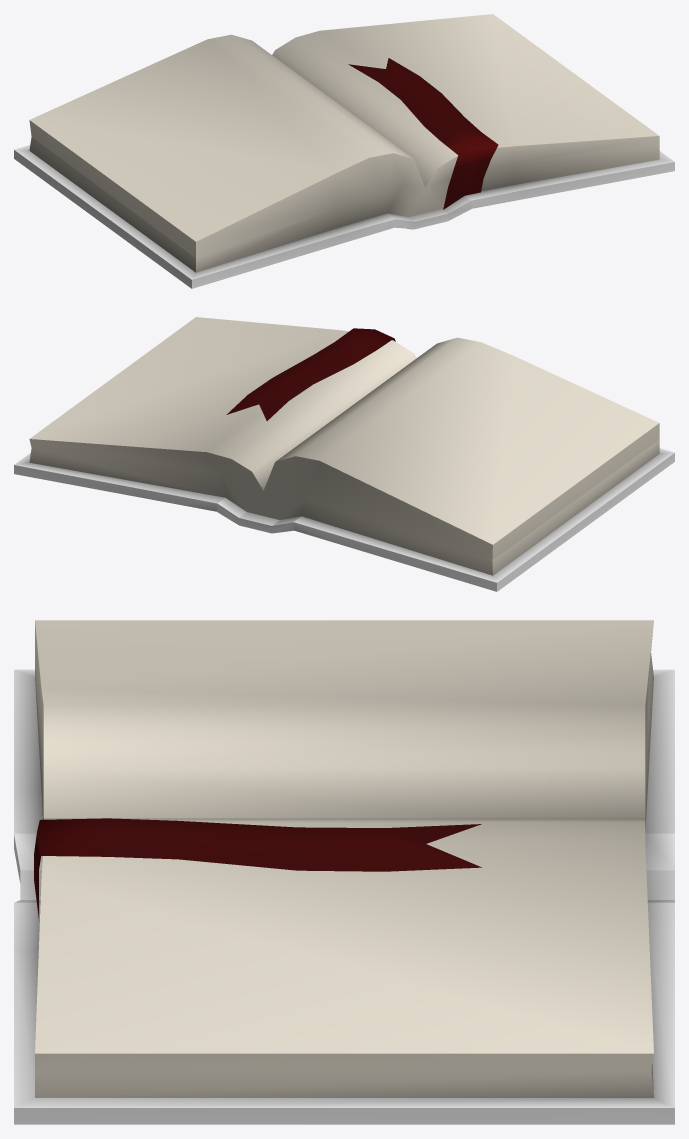
The model's file is obj_bookOpen_B_LOW.FBX.
The picture shows the model from 3 angles, top to bottom: view 1: azimuth 30°, elevation 25°; view 2: azimuth 150°, elevation 25°; view 3: azimuth 270°, elevation 25°; orthographic projection. The views are drawn at different scales.
Parts seen in each view (by area): view 1: obj_bookOpen_B_LOW; view 2: obj_bookOpen_B_LOW; view 3: obj_bookOpen_B_LOW.
Boxes of the visible parts, left/top/right/bottom form: obj_bookOpen_B_LOW: left=14, top=14, right=674, bottom=288; obj_bookOpen_B_LOW: left=14, top=317, right=674, bottom=591; obj_bookOpen_B_LOW: left=14, top=620, right=674, bottom=1124.
Bounding box in the file's own units: 1.74 × 0.28 × 1.11.
